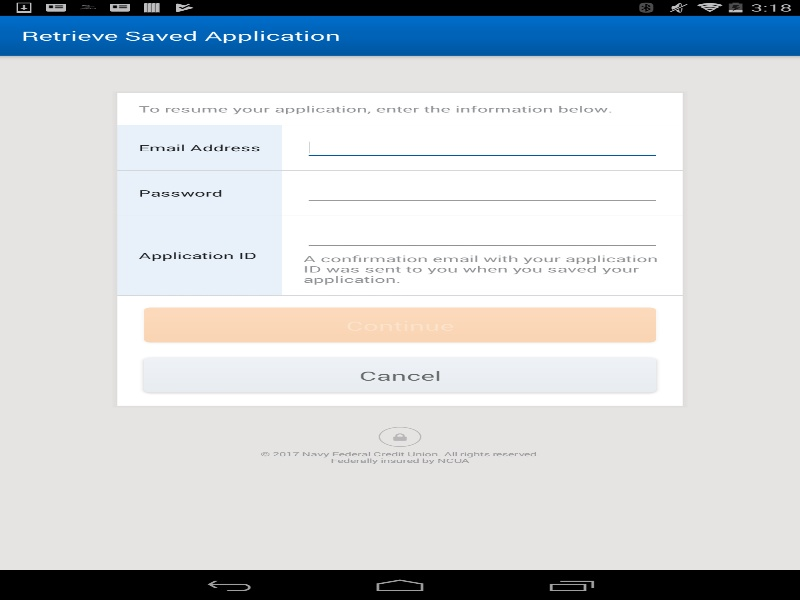Button: (138, 305, 661, 345), (138, 355, 661, 395)
Input: (303, 135, 661, 160), (303, 180, 661, 205), (303, 225, 661, 250)
